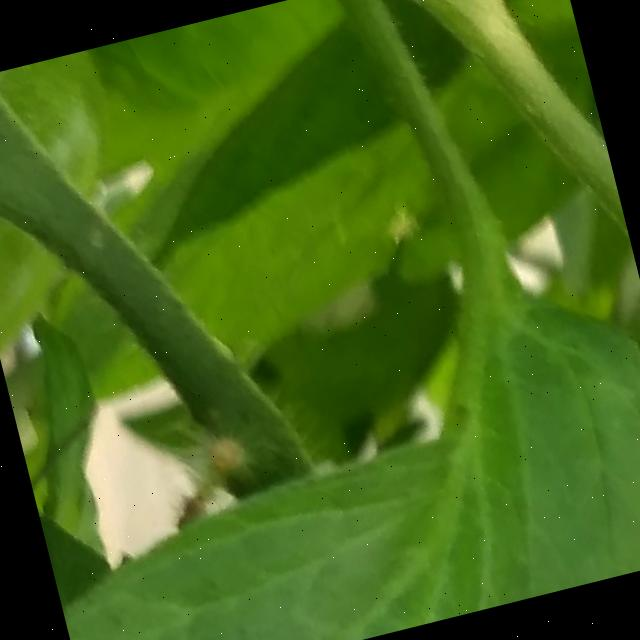tomato: (0, 19, 359, 640)
